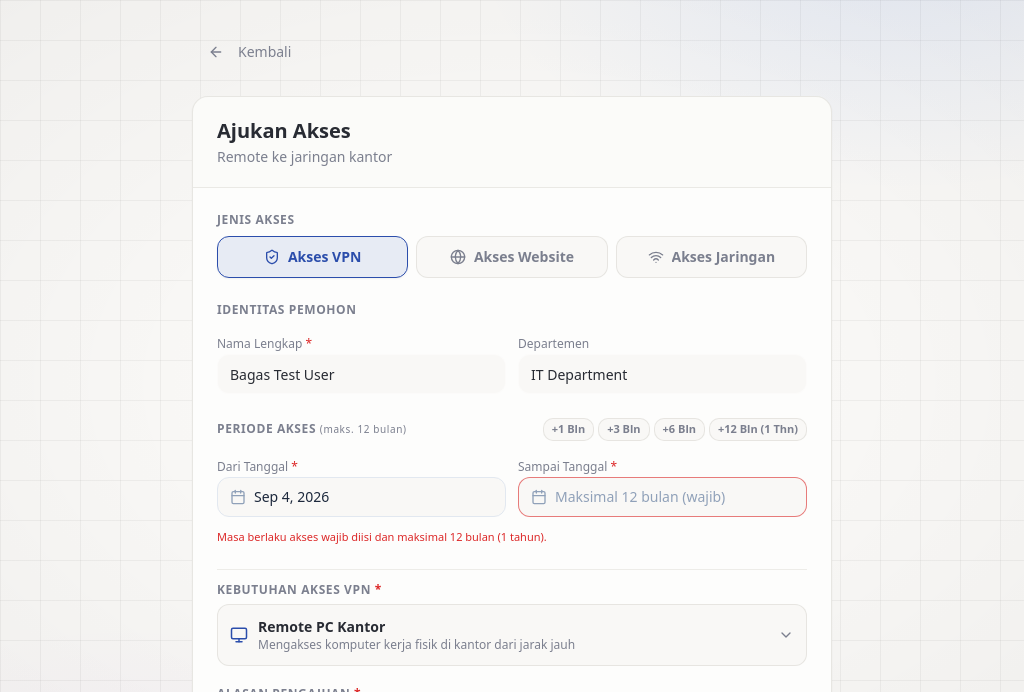
Scenario: EformAccessCreatePage › switches templates when switching to Network access
Click Akses Jaringan
Click the button "Akses Jaringan" at (711, 257), box [616, 236, 807, 278]
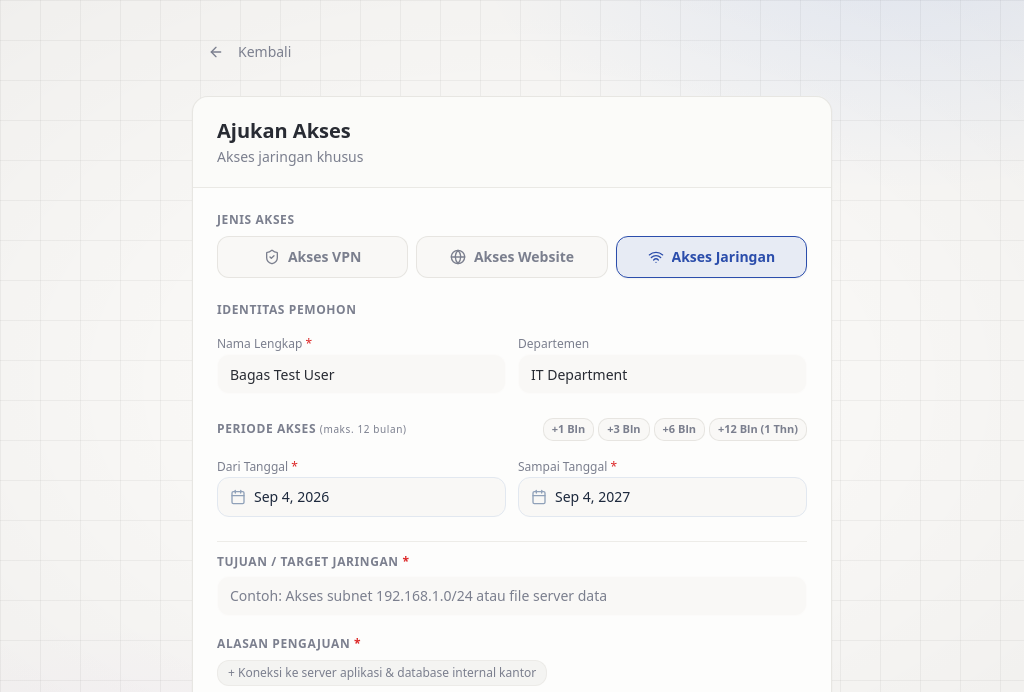
Check: the button "+ Koneksi ke server aplikasi & database internal kantor" is shown, box [217, 660, 547, 686]
Check: the field with placeholder "Contoh: Akses subnet 192.168.1.0/24 atau file server data" is shown, box [217, 576, 807, 616]
